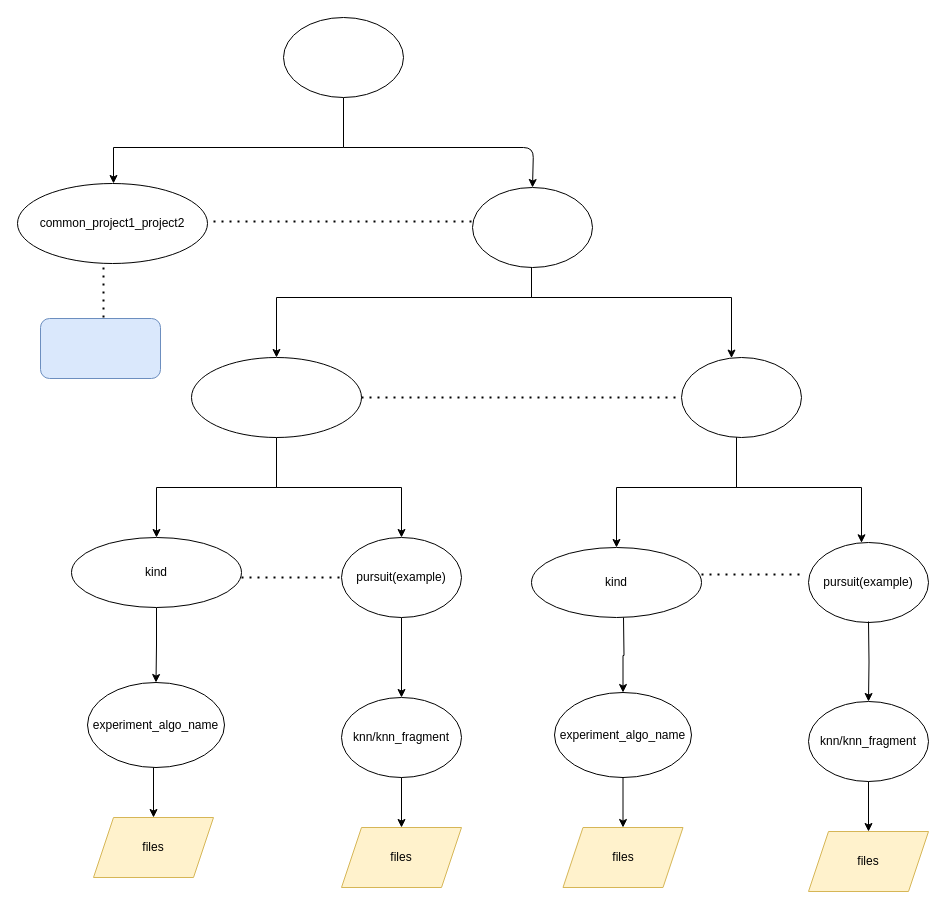
The diagram is 946 pixels wide and 909 high, and some of its shapes have lost their labels. The shapes that lost their labels are listed below. From the top down, each one's box as (x1, y1, x2, y2) in pixels, then its label:
(282, 16, 404, 98): project_name
(472, 186, 592, 268): all
(40, 318, 160, 378): same as right branch
(190, 356, 362, 438): direction(example)
(680, 356, 802, 438): experiment
